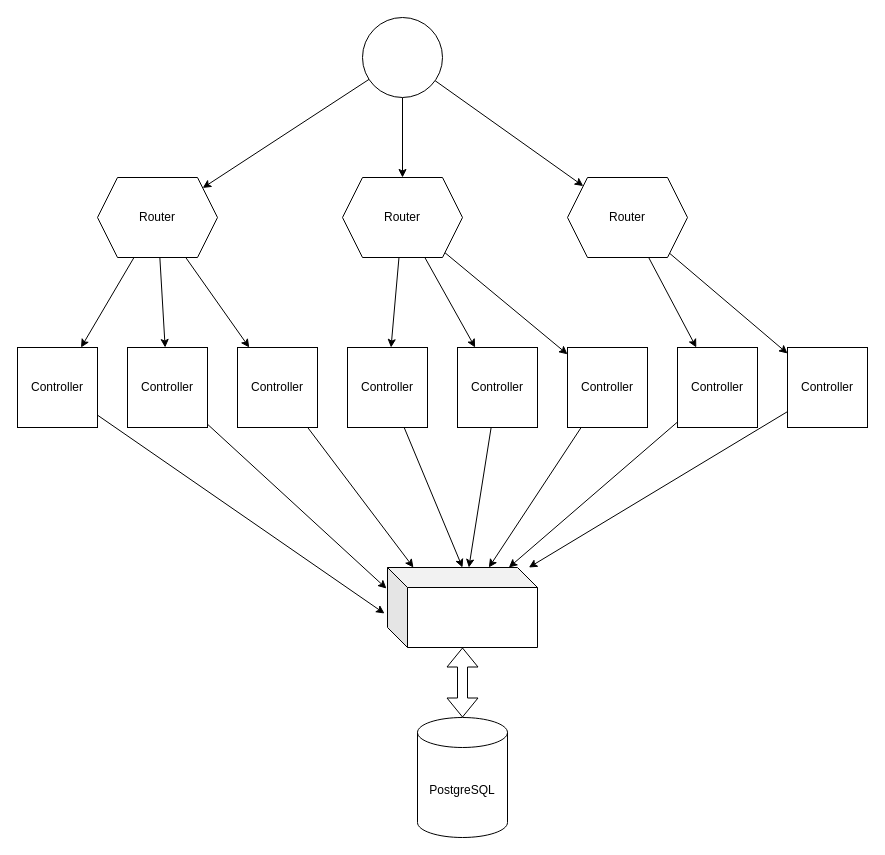
The diagram is 885 pixels wide and 855 high, and some of its shapes have lost their labels. The shapes that lost their labels are listed below. From the top down, each one's centre as x and y in pixels, then its label:
point 402,57: app.js
point 462,607: ORM
